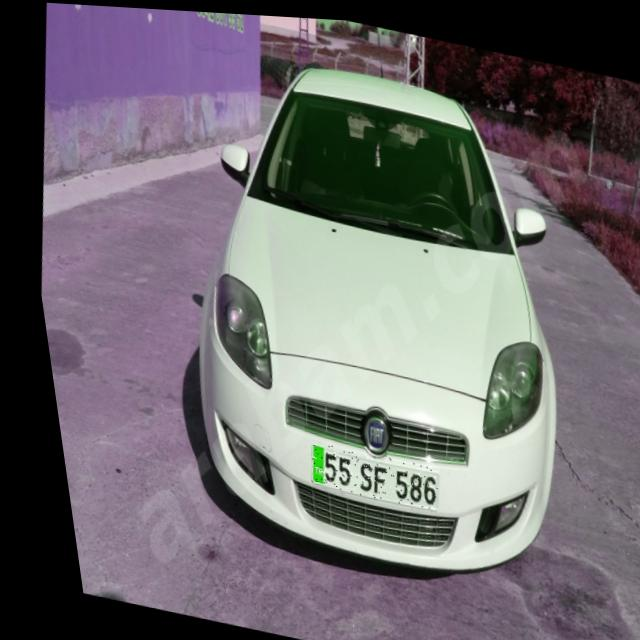license_plate: (291, 438, 431, 507)
